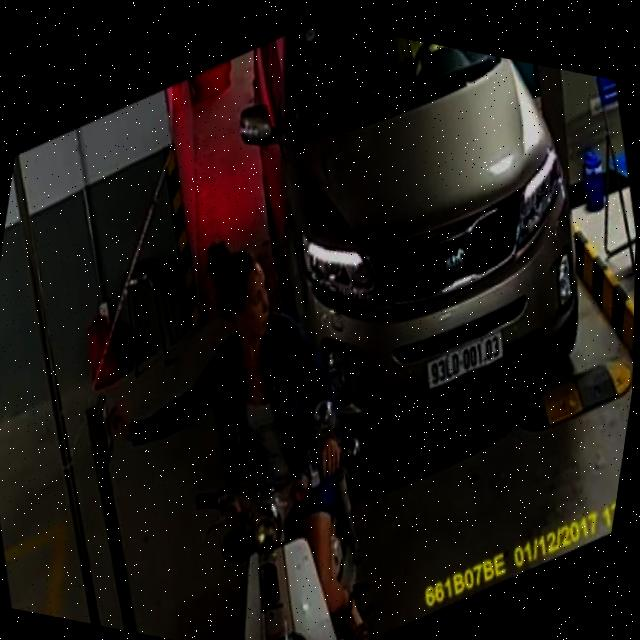car: (188, 15, 617, 490)
motorcycle: (173, 401, 393, 640)
plate: (419, 315, 512, 406)
